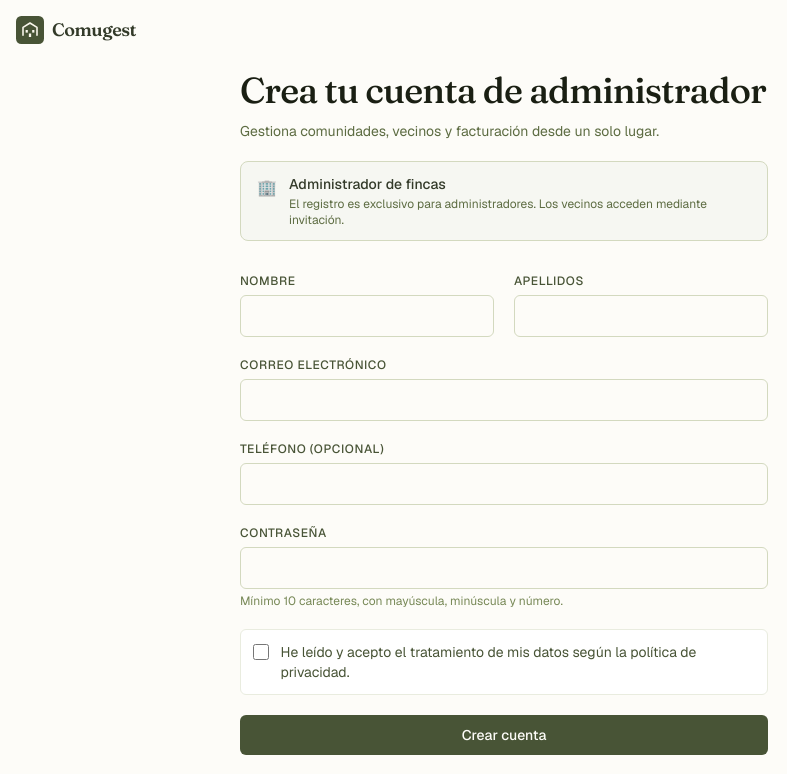
Test: RegisterPage › shows server error alert when register() rejects
This screenshot has width=787, height=774.
Type "Ana" into the field labelled "Nombre". click: (367, 316)
box: left=240, top=295, right=494, bottom=337
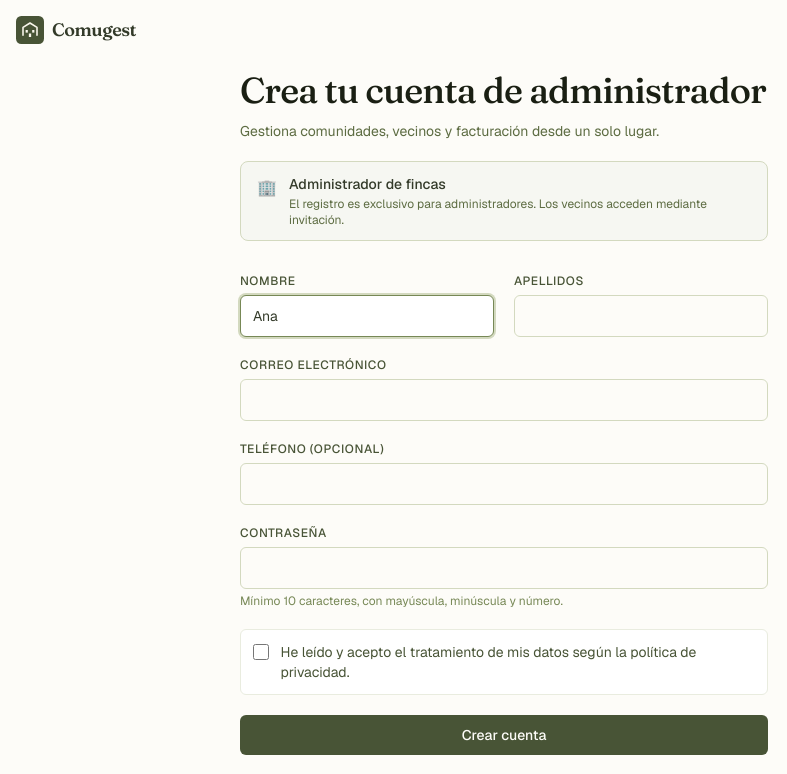
Type "García" into the field labelled "Apellidos". click: (641, 316)
box: left=514, top=295, right=768, bottom=337
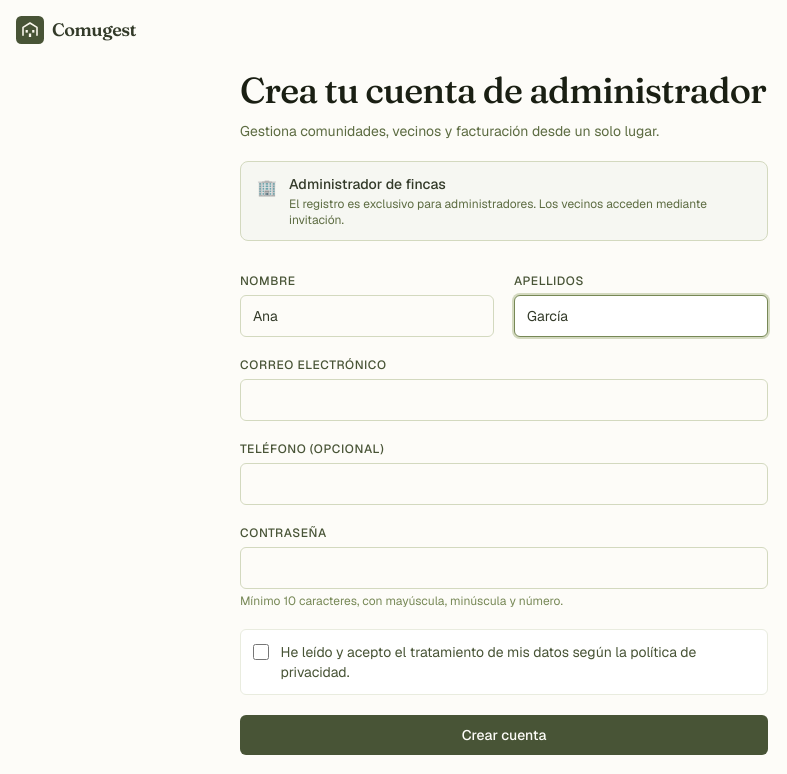
Type "existing@example.com" into the field labelled "Correo electrónico". click: (504, 400)
box: left=240, top=379, right=768, bottom=421
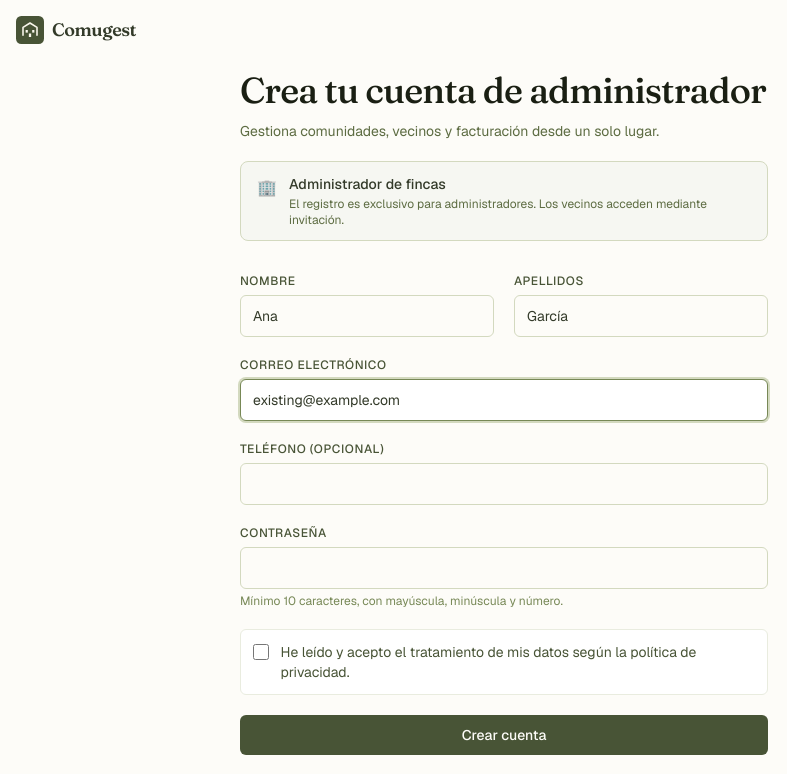
Type "SecurePass1" into the password field labelled "Contraseña". click: (504, 568)
box: left=240, top=547, right=768, bottom=589
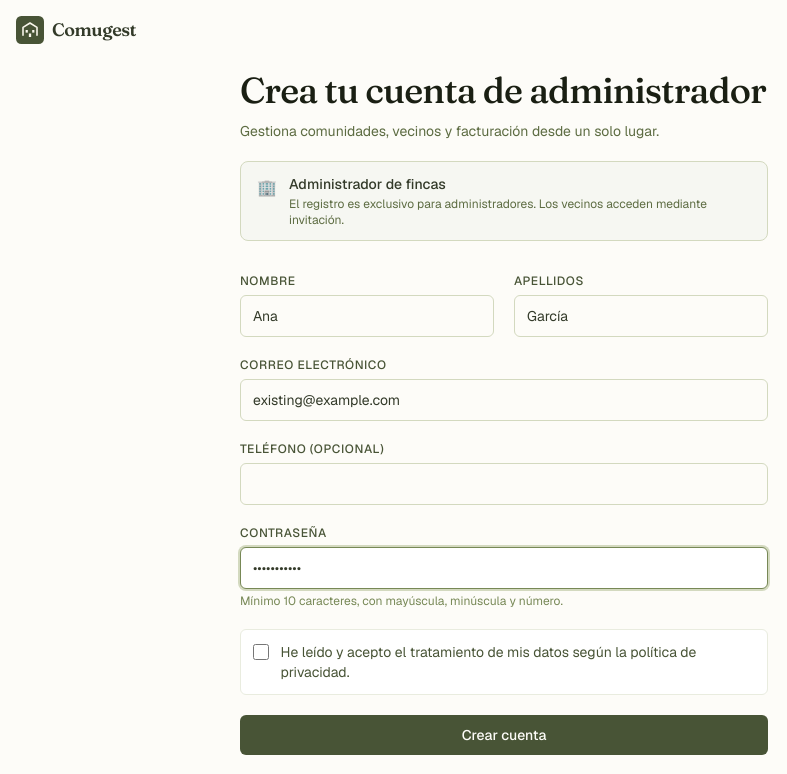
Click the checkbox. click: (261, 652)
box: left=253, top=644, right=268, bottom=660
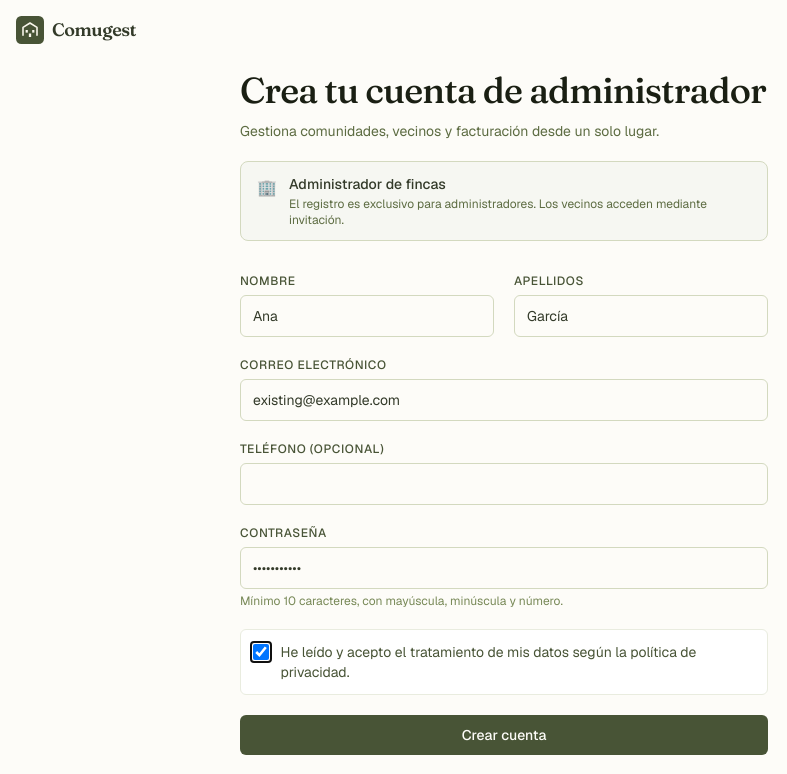
Click the button "Crear cuenta". click: (504, 735)
box: left=240, top=715, right=768, bottom=755
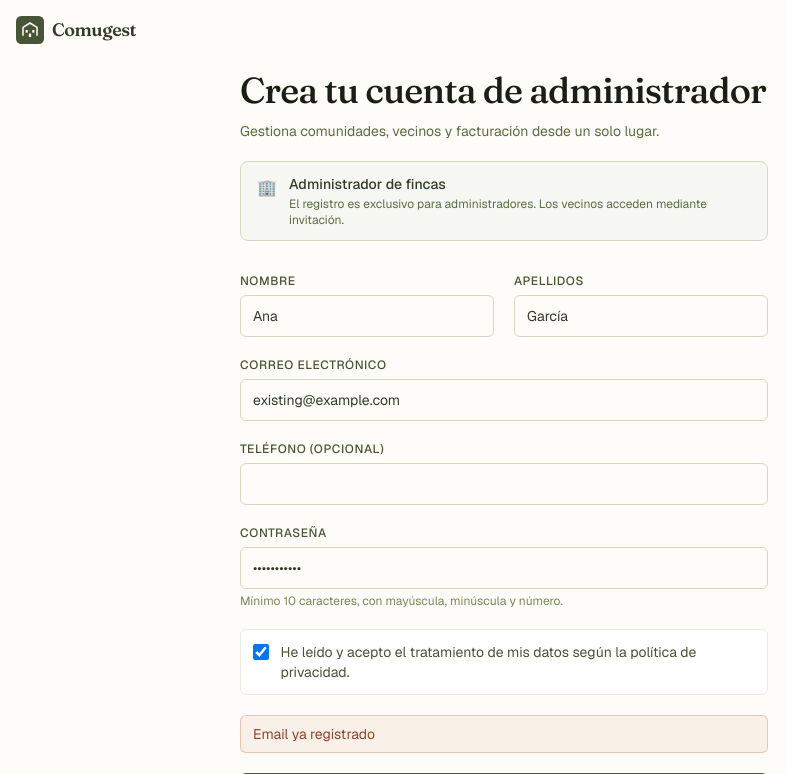
Expected: the message reads "Email ya registrado", left=253, top=725, right=375, bottom=743
